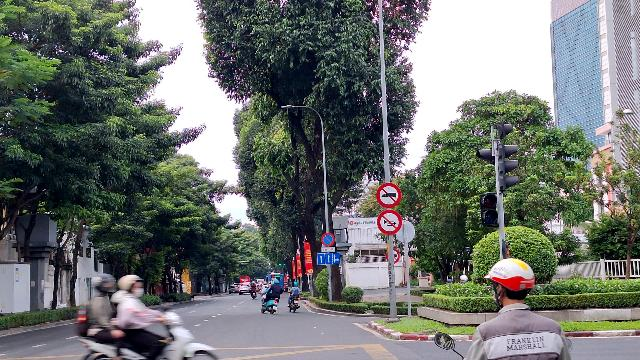cam-bop-coi: (376, 209, 403, 235)
cam-do-xe: (321, 232, 335, 247)
